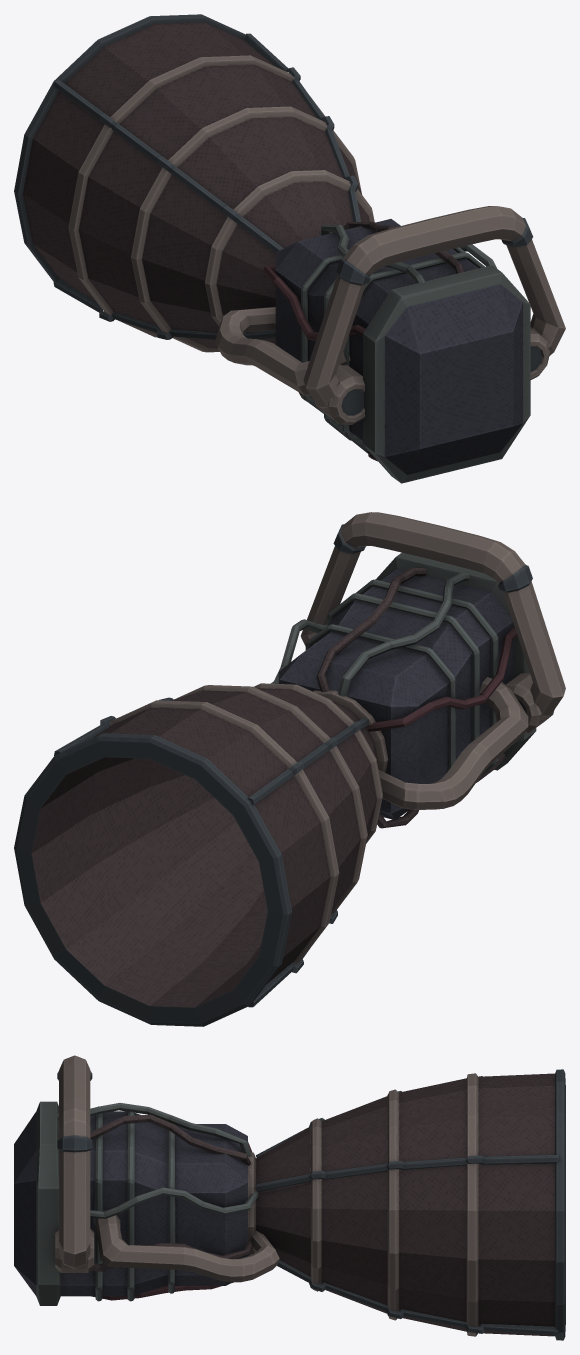
The model's file is SpaceEngine.glb.
3 renders of one model, top to bottom at view 1: azimuth 30°, elevation 25°; view 2: azimuth 150°, elevation 25°; view 3: azimuth 270°, elevation 25°, orthographic. The views are drawn at different scales.
Visible parts, largest first — view 1: SpaceEngine_mesh; view 2: SpaceEngine_mesh; view 3: SpaceEngine_mesh.
Part boxes in pixels (left/top/right/bottom): SpaceEngine_mesh: left=14, top=14, right=565, bottom=483; SpaceEngine_mesh: left=14, top=512, right=565, bottom=1026; SpaceEngine_mesh: left=14, top=1055, right=565, bottom=1340.
Size of the model in its own units: 9.4 by 9.5 by 19.11.
Materials: 1 (1 with a texture image).
